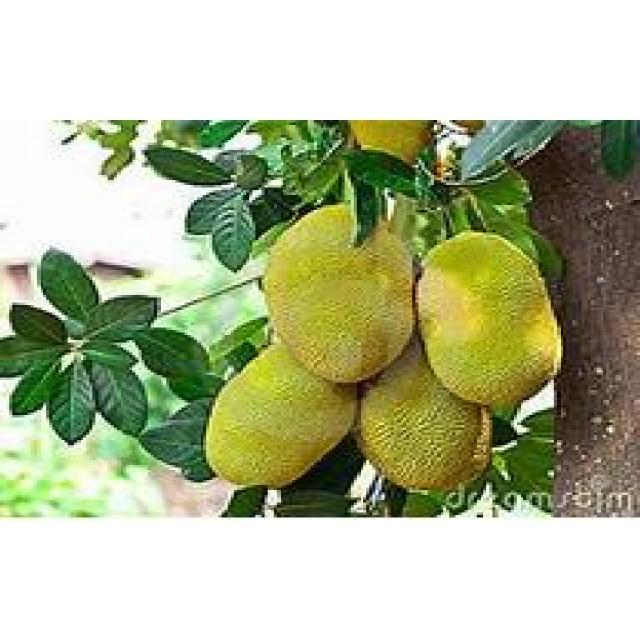Fruit: (191, 180, 434, 510), (407, 217, 576, 425)
